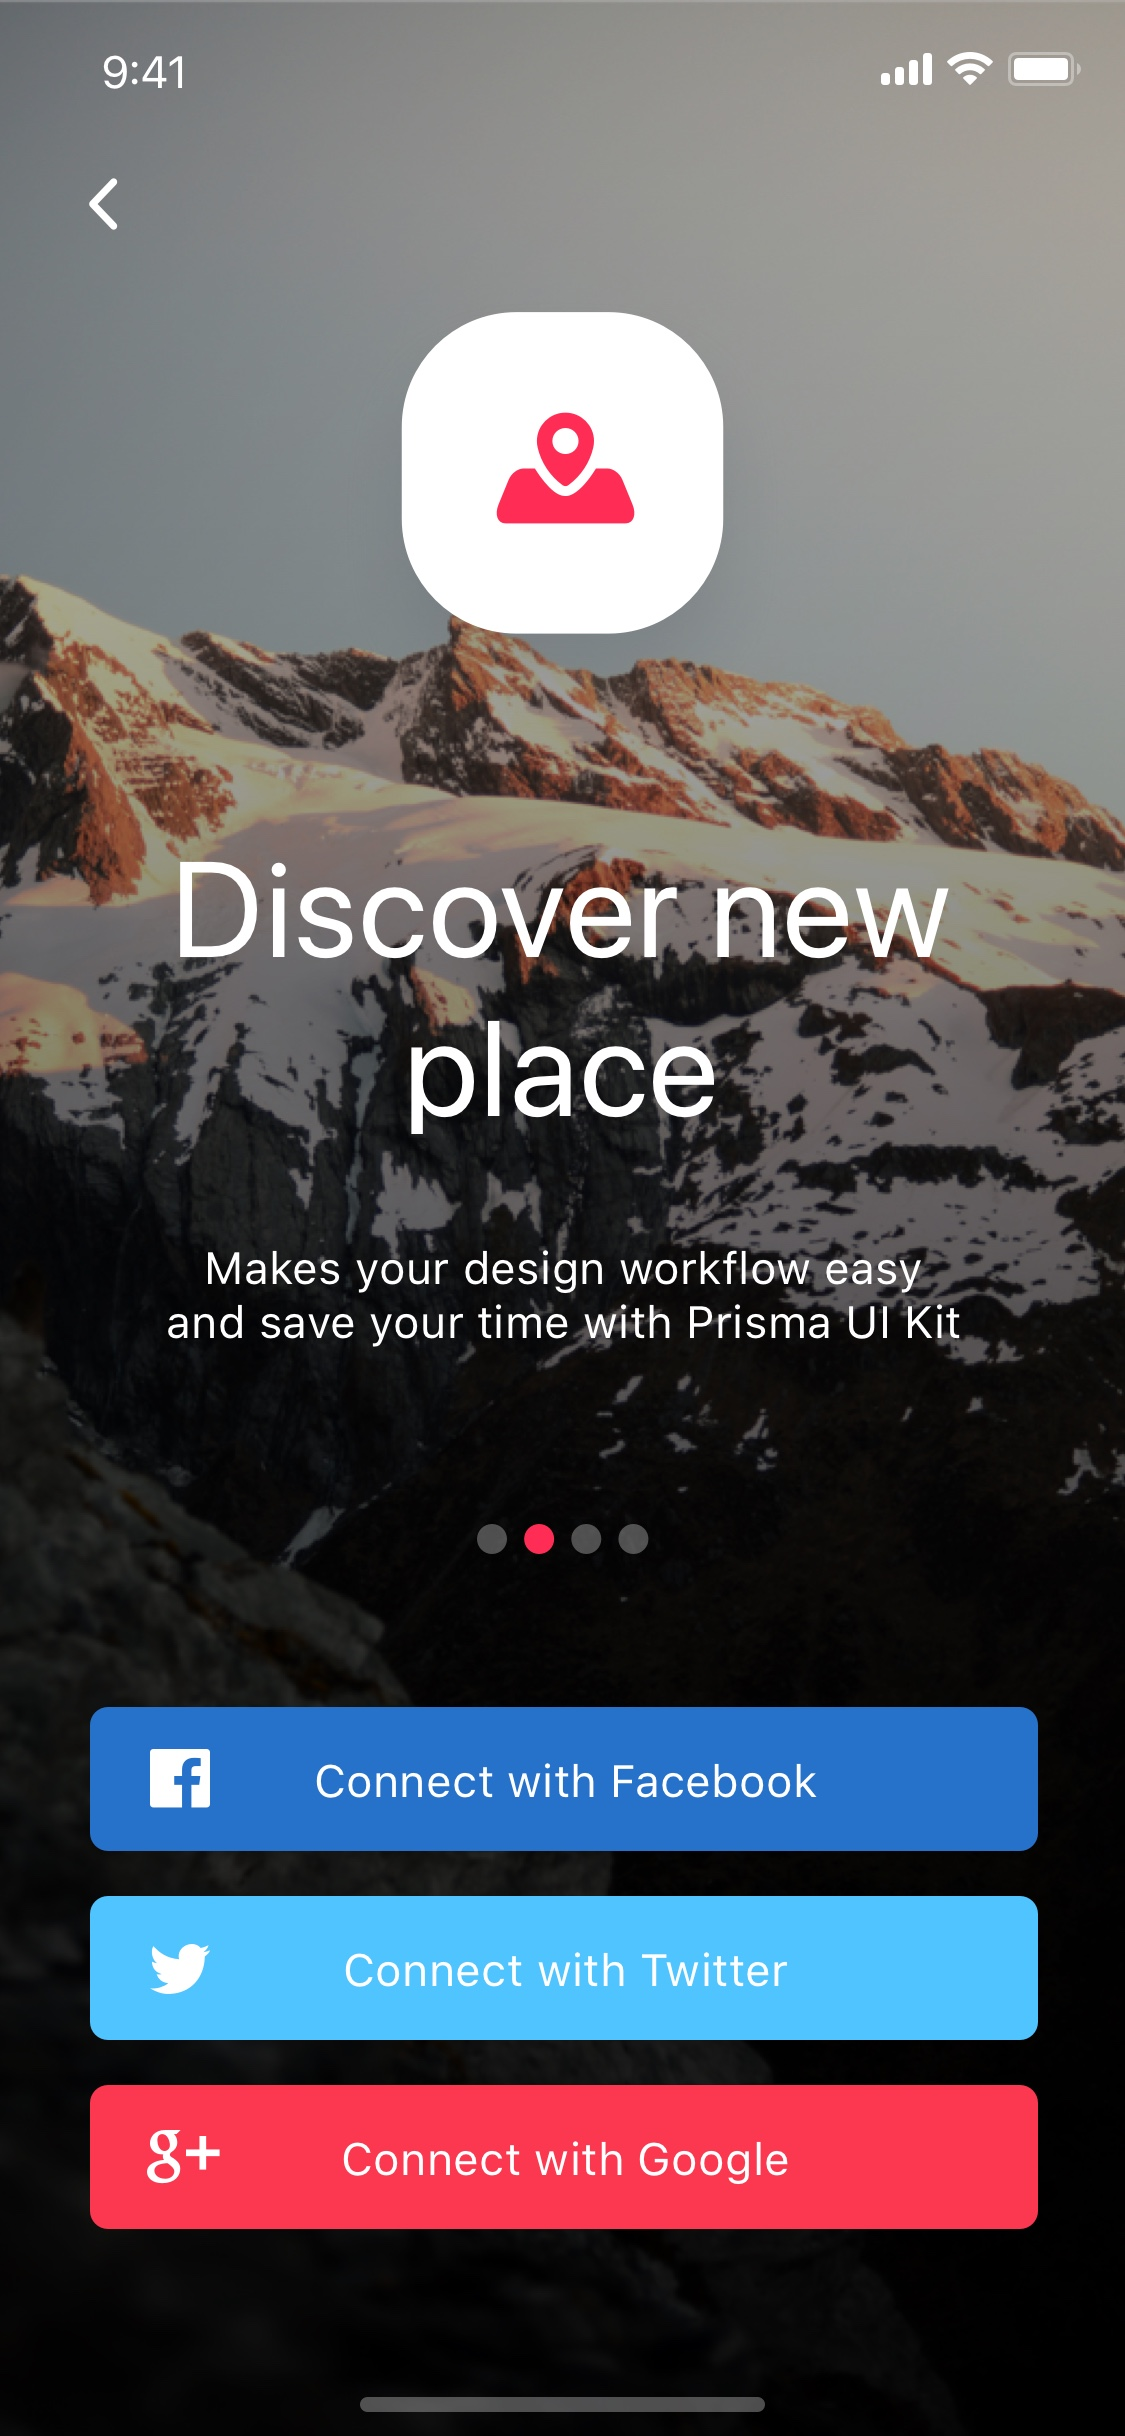BackgroundImage: (2, 2, 1125, 2436)
Icon: (89, 177, 120, 231)
Image: (399, 311, 726, 635)
PageIndicator: (475, 1522, 650, 1557)
Text: (179, 861, 949, 1136), (166, 1251, 960, 1348)
TextButton: (90, 1895, 1040, 2041), (90, 2083, 1040, 2229), (90, 1707, 1040, 1852)
UpperTaskBar: (103, 51, 1083, 92)
